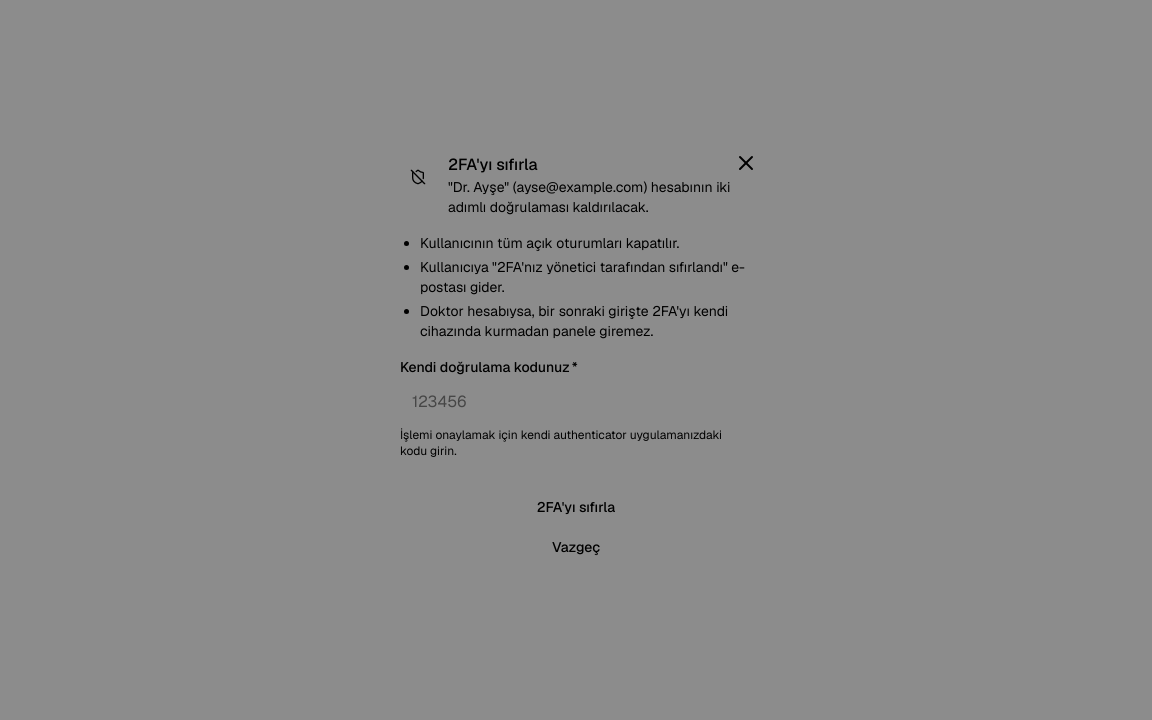
Test case: ResetTwoFactorDialog › admin'in kendi 2FA'sı kapalıysa hata ve Güvenlik ayarları bağlantısı gösterir
Type "654321" into the field labelled "Kendi doğrulama kodunuz*" at (576, 401), box [400,383,752,419]
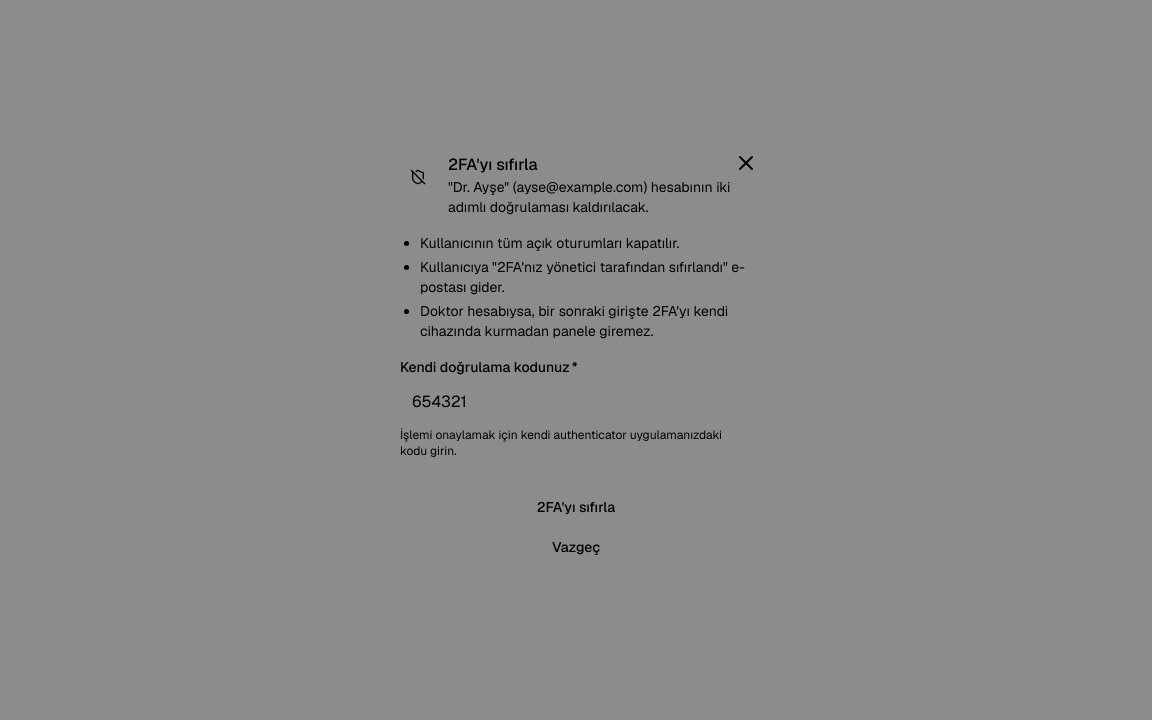
Click the button "2FA'yı sıfırla" at (576, 507), box [400,491,752,523]
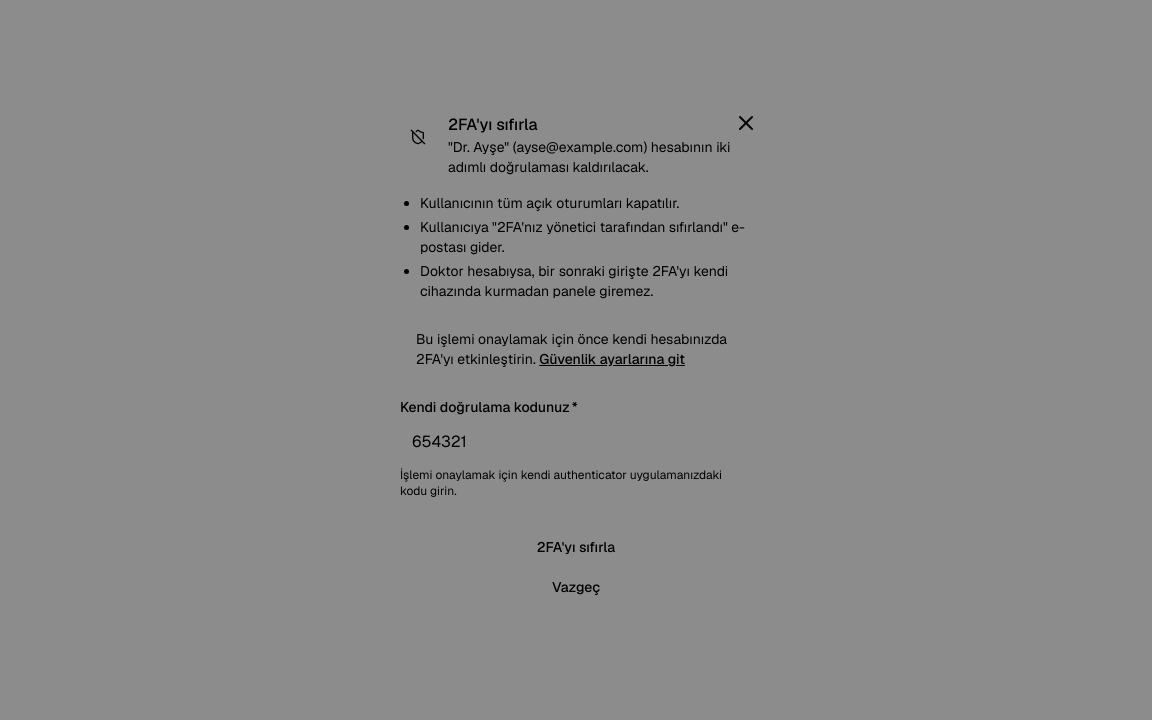
Expected: the text "önce kendi hesabınızda 2FA" is shown, [416,330,727,368]
